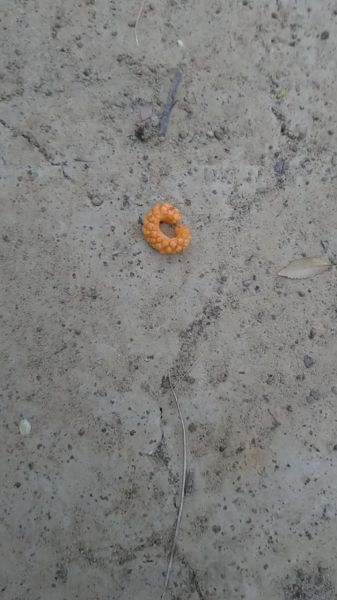eggs: (137, 200, 196, 254)
